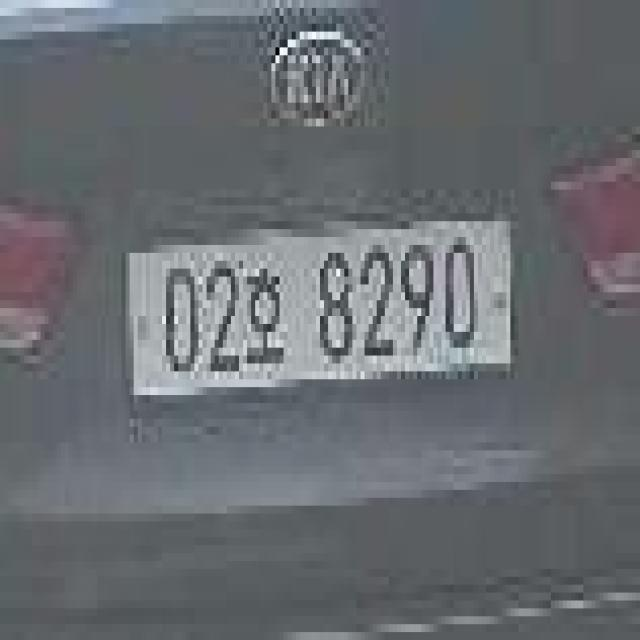illegal_plate: (123, 214, 518, 406)
